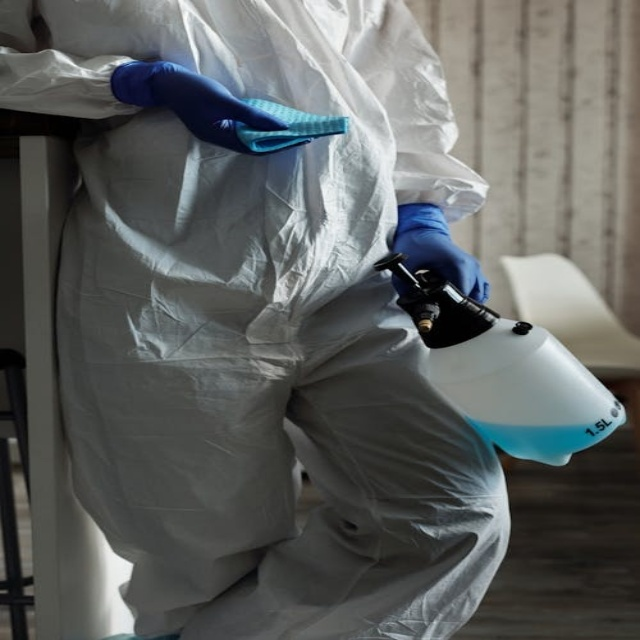Guantes: (109, 58, 305, 155), (389, 203, 488, 310)
